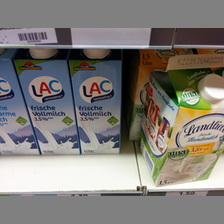milk: (142, 54, 224, 186), (11, 46, 80, 155), (68, 47, 124, 154)
